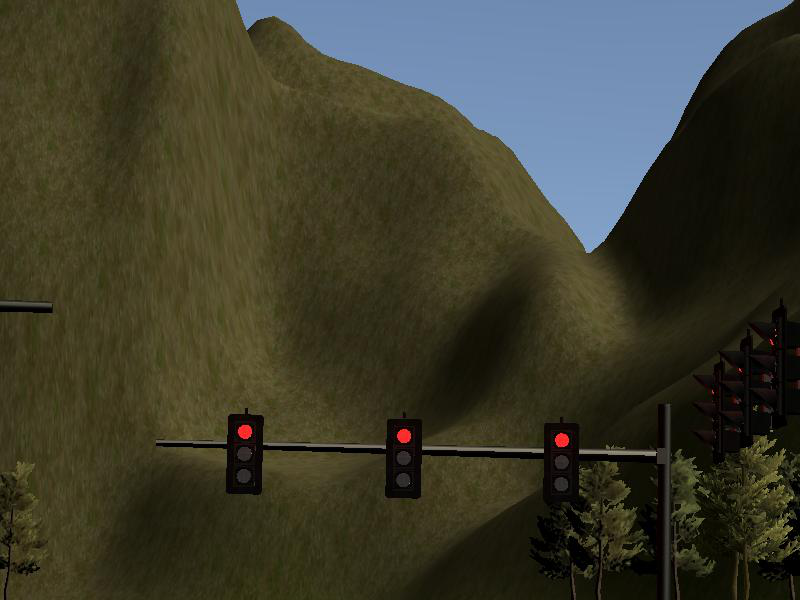red: (388, 417, 423, 498), (545, 424, 581, 501), (229, 414, 263, 495)
